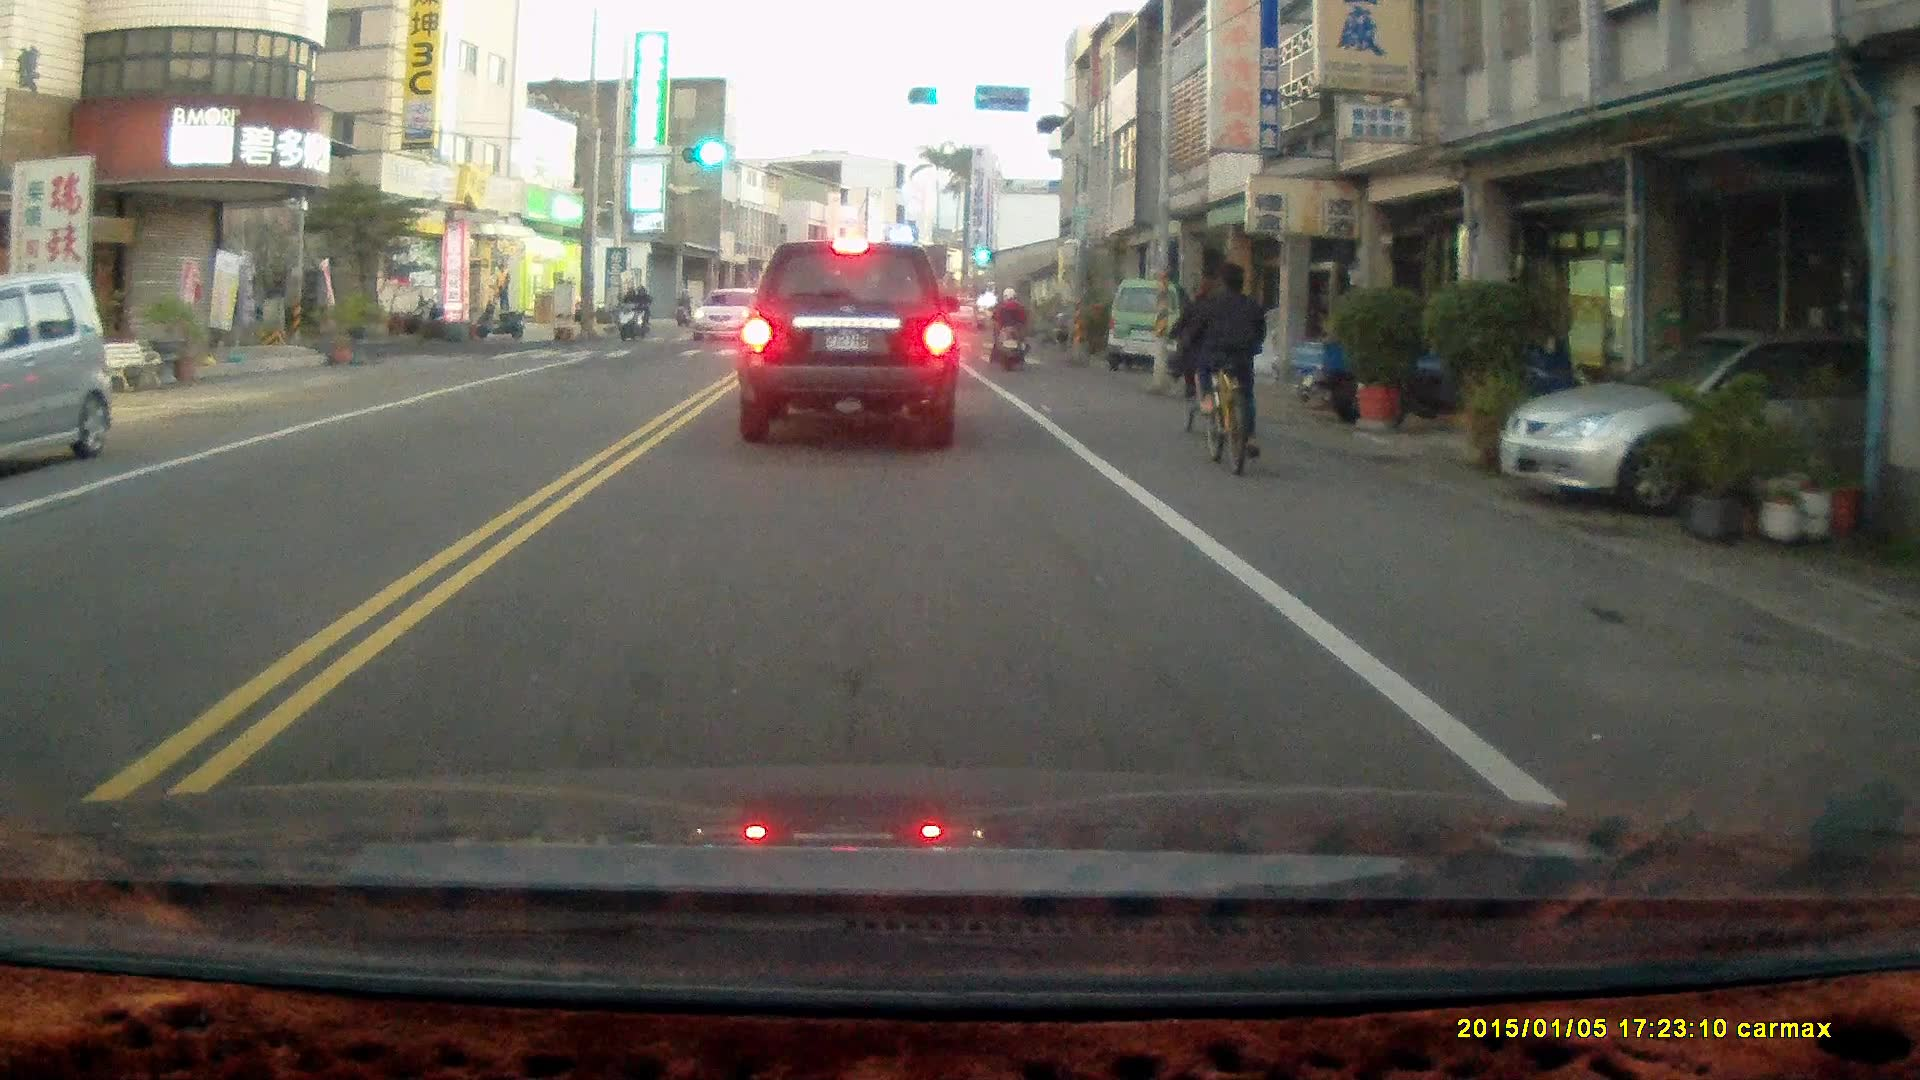pedestrian: (492, 261, 512, 312)
rider: (1191, 261, 1268, 473), (1169, 280, 1230, 444), (985, 286, 1034, 372), (614, 280, 646, 343), (672, 290, 693, 324)
vehicle: (1496, 328, 1920, 517), (739, 240, 963, 451), (1, 272, 120, 481), (1112, 279, 1204, 368)
